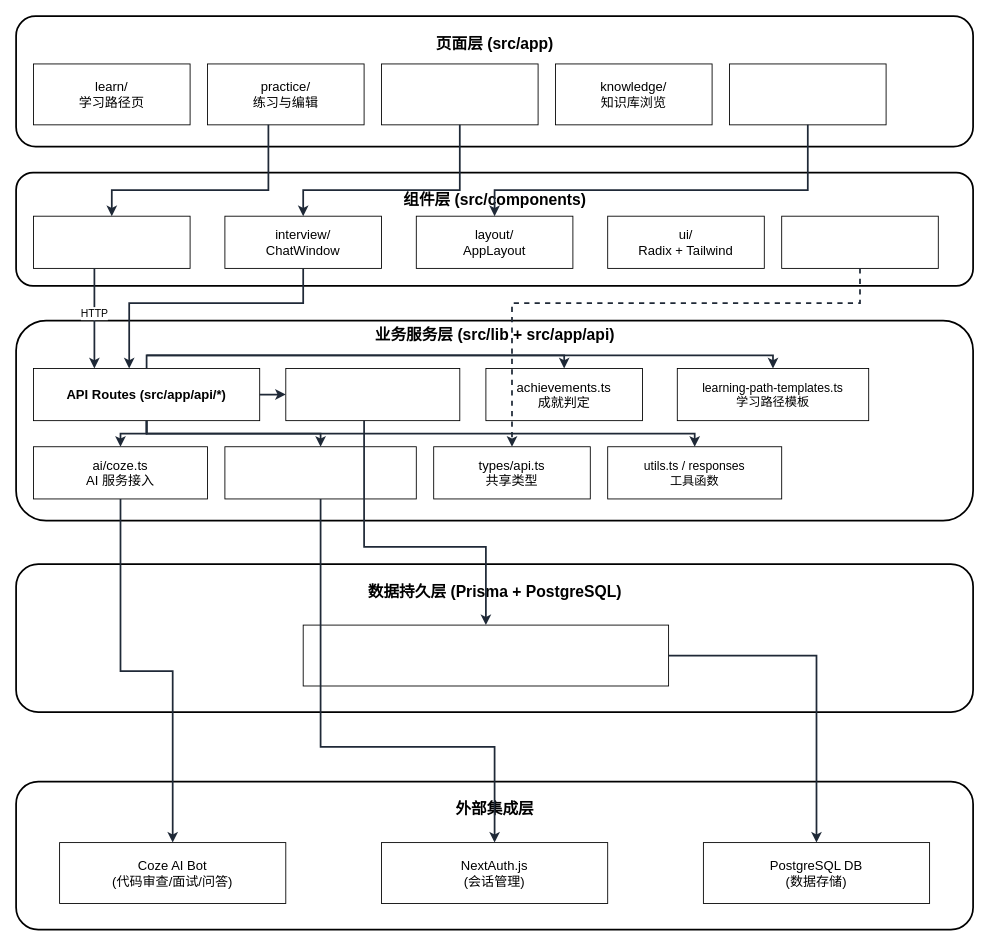
Some shapes in this 988 by 945 pixel diagram are drawn without their labels. The centre of each missing label's shape, as x and y in pixels:
api-client.ts 统一接口封装: the point at 372,394
auth.ts / auth.config.ts 鉴权与会话: the point at 320,472
code-editor/ MonacoEditor: the point at 111,241
dashboard/ 仪表盘: the point at 807,94
interview/ 模拟面试: the point at 459,94
Prisma ORM (schema.prisma): the point at 485,655
providers/ Context & Hooks: the point at 859,241
